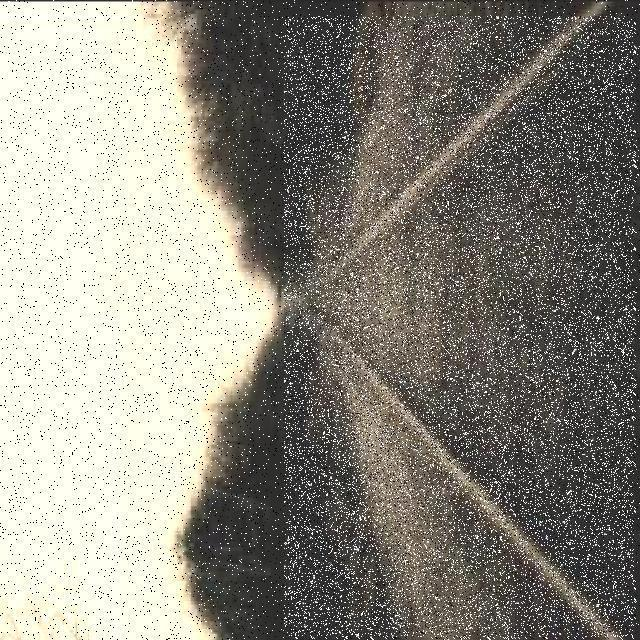rail: (286, 18, 636, 639)
